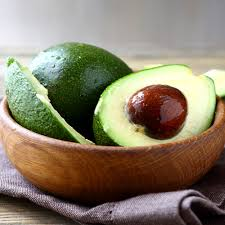avocado: (94, 65, 216, 147)
